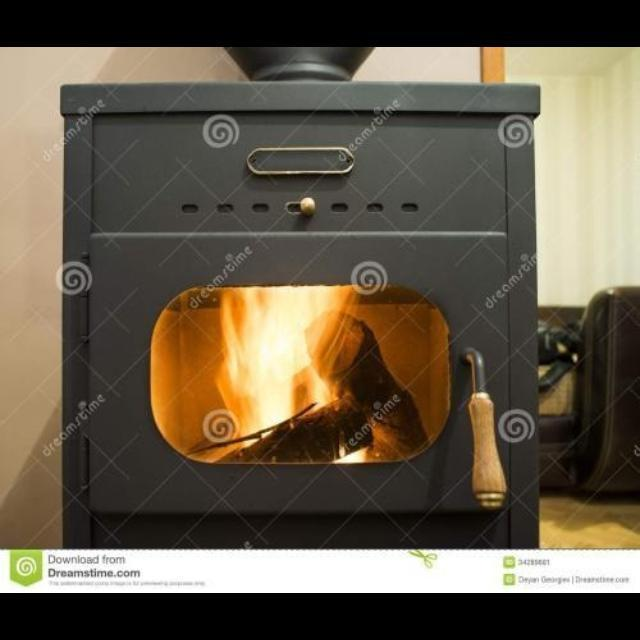Fire: (215, 287, 369, 463)
